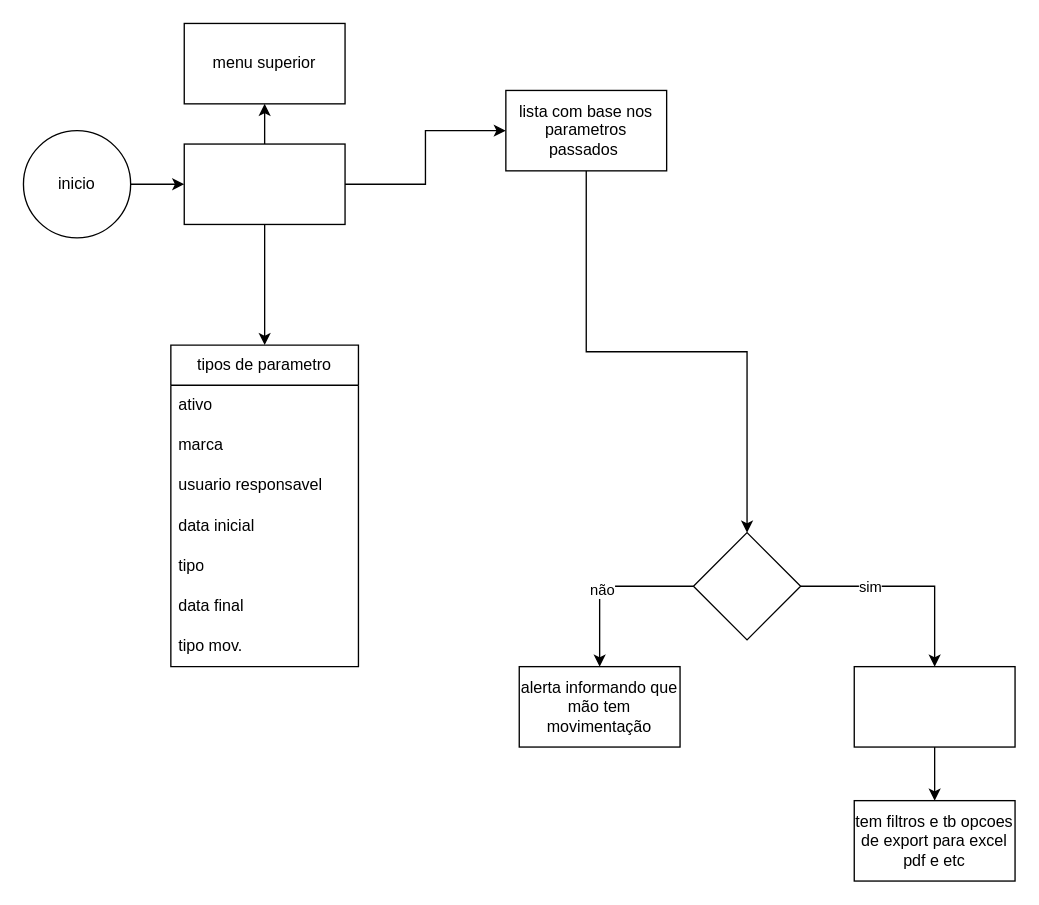
Some shapes in this 1039 by 905 pixel diagram are drawn without their labels. Each missing label, with the centre of its shape:
exibe os dados retornados: the point at 934,706
realizar a pesquisa: the point at 746,585
selecione os parametros para que o relatorio possa ser gerado: the point at 264,183
